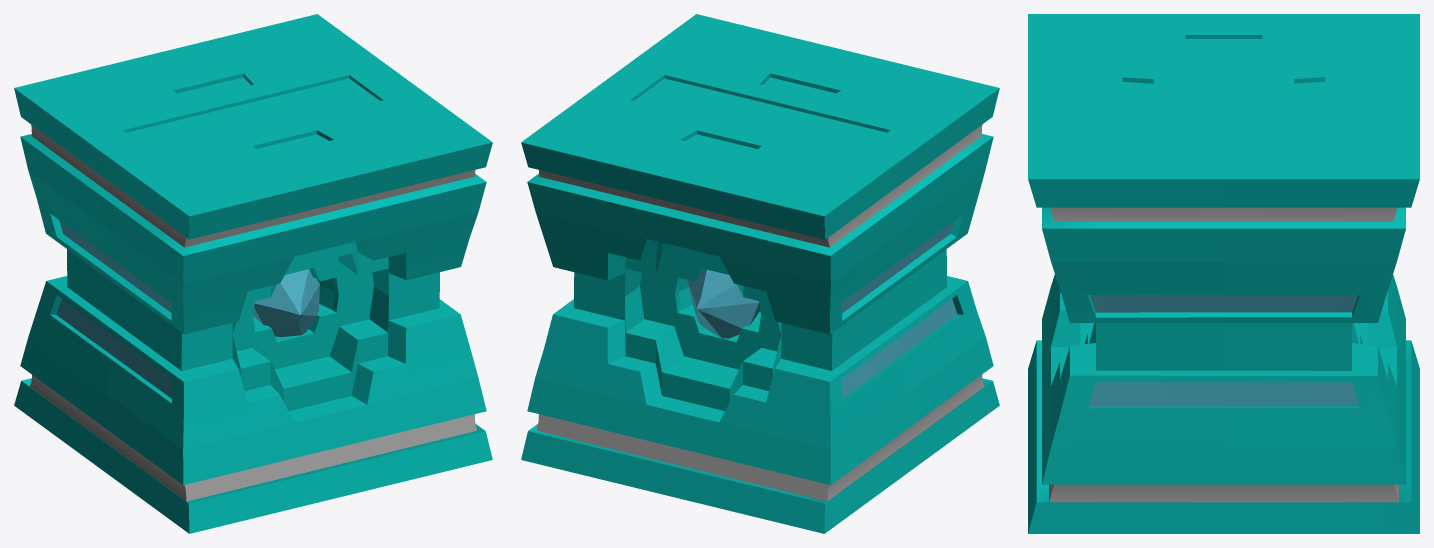
File: SM_moving_platform_01.fbx
The picture shows the model from 3 angles, left to right: view 1: azimuth 30°, elevation 25°; view 2: azimuth 150°, elevation 25°; view 3: azimuth 270°, elevation 25°; orthographic projection. The views are drawn at different scales.
Parts seen in each view (by area): view 1: Moving_platform_07; view 2: Moving_platform_07; view 3: Moving_platform_07.
Boxes of the visible parts, <box> form: Moving_platform_07: <box>14,14,492,533</box>; Moving_platform_07: <box>521,14,999,533</box>; Moving_platform_07: <box>1028,14,1419,533</box>.
Size of the model in its own units: 500 by 500 by 501.
